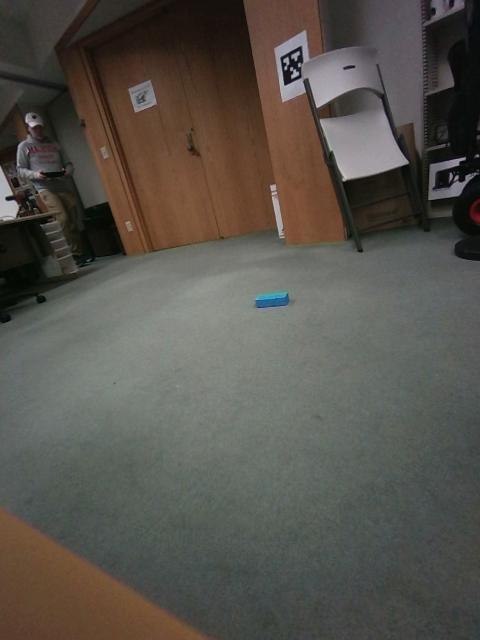block: (263, 357, 341, 449)
